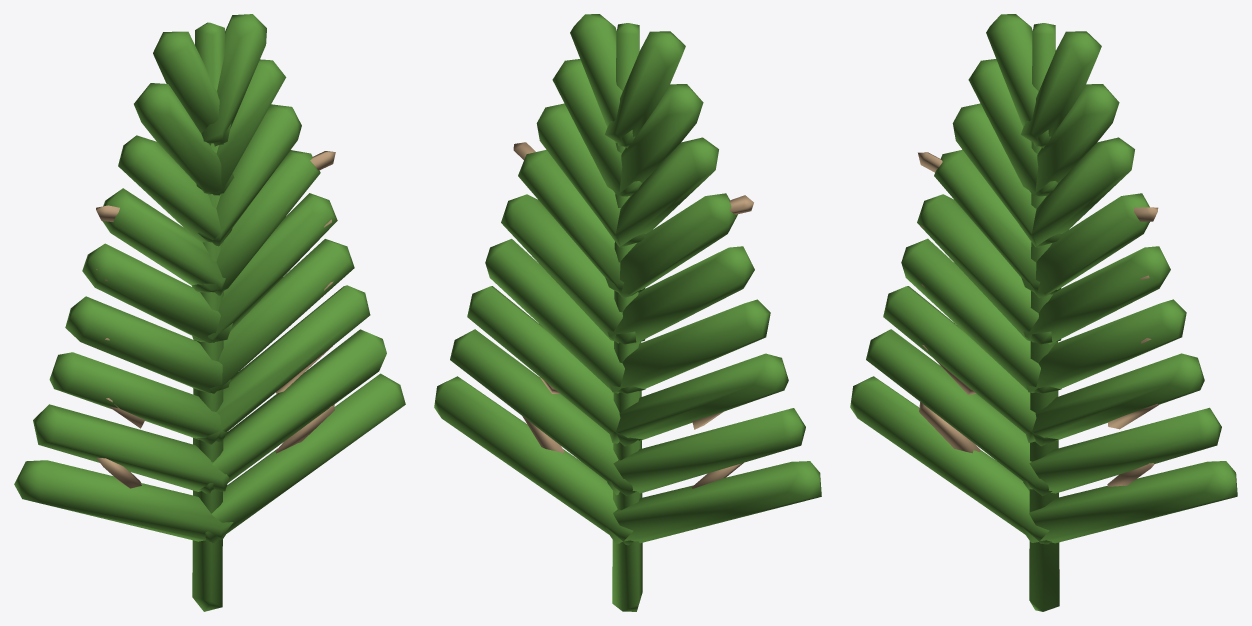
The model's file is org_charnia.glb.
3 renders of one model, left to right at view 1: azimuth 30°, elevation 25°; view 2: azimuth 150°, elevation 25°; view 3: azimuth 330°, elevation 25°, orthographic.
Parts seen in each view (by area): view 1: Foliage; view 2: Foliage; view 3: Foliage.
Part boxes in pixels (<box>): Foliage: <box>14,14,405,611</box>; Foliage: <box>434,14,821,611</box>; Foliage: <box>850,14,1237,611</box>.
Size of the model in its own units: 0.6106 by 0.8982 by 0.0663.
